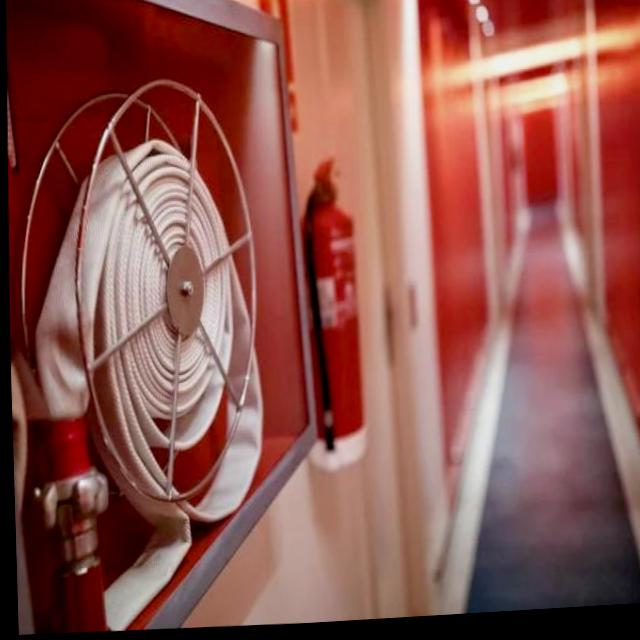FireExtinguisher: (284, 152, 375, 480)
